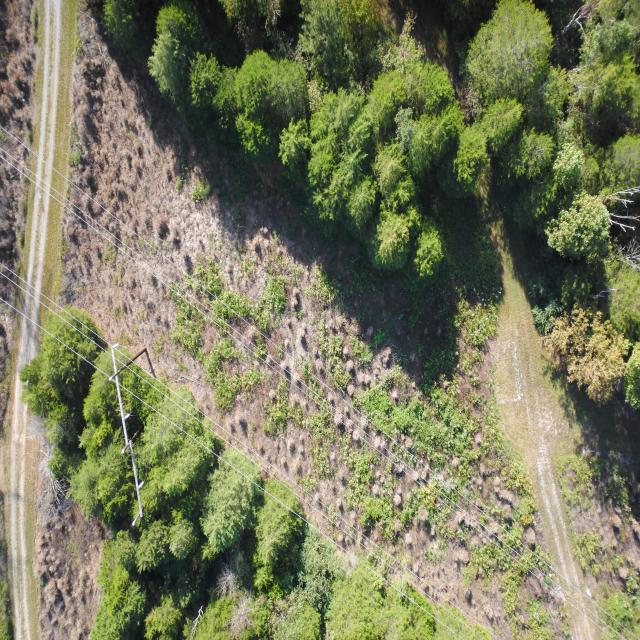Area of Interest: (104, 7, 631, 382), (30, 341, 419, 624)
